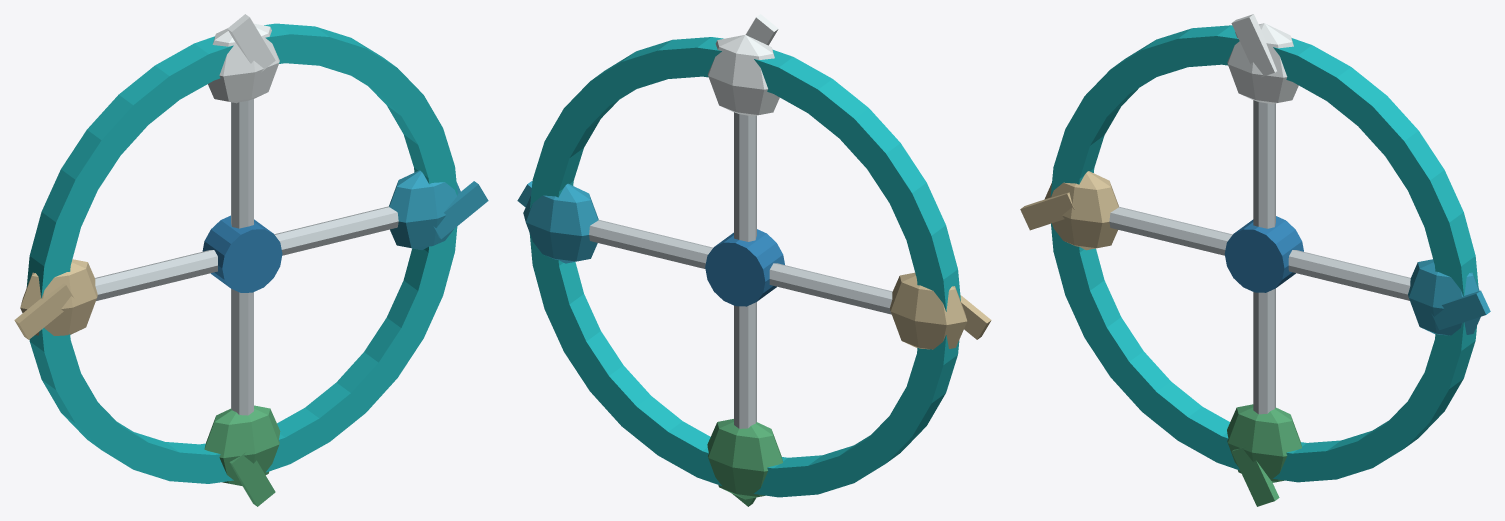
Rendered from AQUA-021.glb.
3 renders of one model, left to right at view 1: azimuth 30°, elevation 25°; view 2: azimuth 150°, elevation 25°; view 3: azimuth 330°, elevation 25°, orthographic.
Visible parts, largest first — view 1: AQUA-021; view 2: AQUA-021; view 3: AQUA-021.
Boxes of the visible parts, bbox=[...] form: AQUA-021: bbox=[14, 14, 488, 506]; AQUA-021: bbox=[517, 14, 991, 506]; AQUA-021: bbox=[1020, 14, 1490, 506].
Size of the model in its own units: 2.96 by 2.96 by 0.28.
